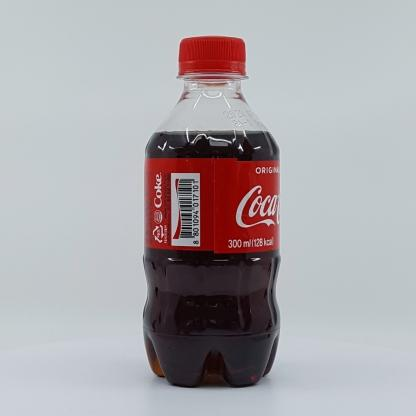--------300ML: (142, 35, 281, 387)
